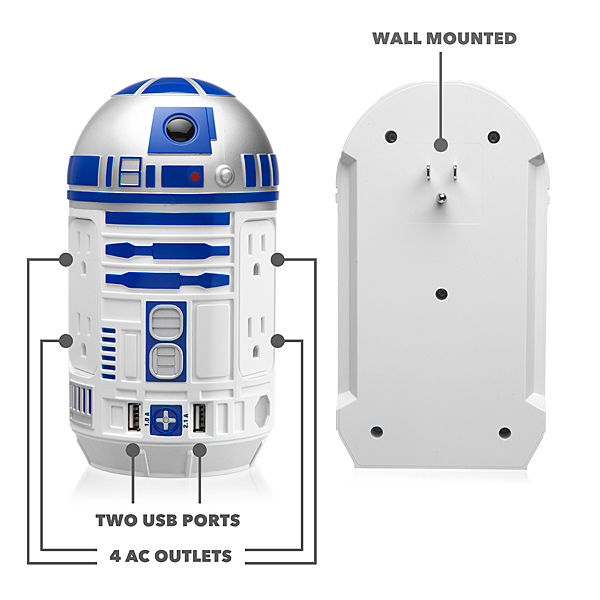r2d2: (66, 76, 279, 477)
